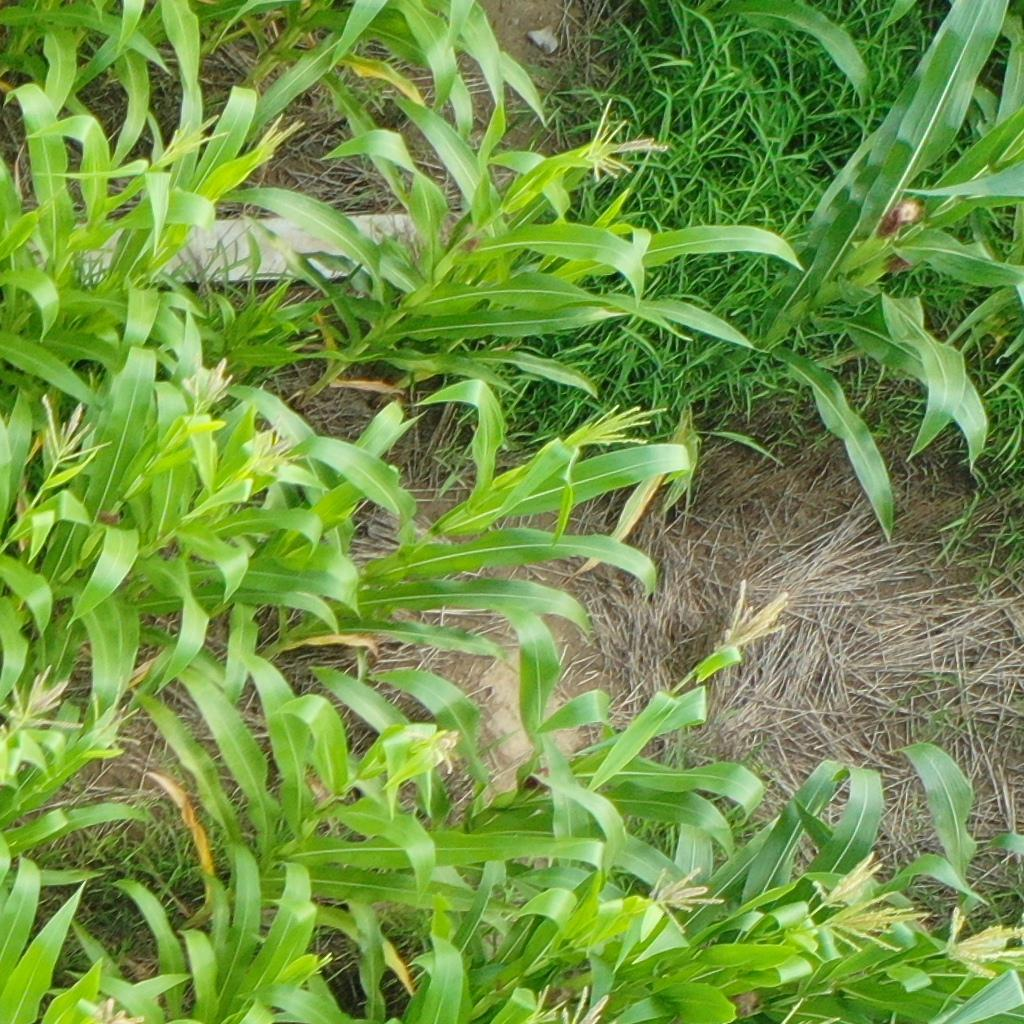Tassel: (584, 98, 671, 186), (815, 891, 931, 957), (941, 905, 1024, 981), (717, 578, 793, 654), (647, 863, 727, 934), (3, 664, 85, 732), (38, 394, 114, 466), (569, 403, 669, 451), (83, 677, 146, 752), (810, 849, 886, 909), (156, 113, 231, 172), (246, 413, 301, 479), (188, 355, 236, 419), (250, 111, 306, 165), (406, 726, 462, 777), (563, 984, 612, 1024), (78, 996, 144, 1024), (525, 981, 565, 1024), (35, 179, 67, 221), (311, 950, 336, 978)
